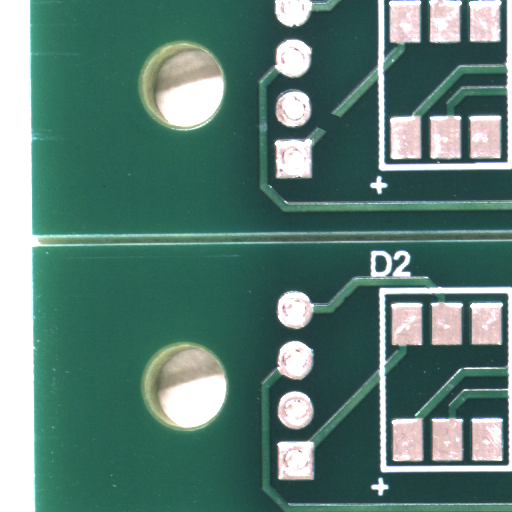Open_circuit: (329, 123, 354, 144)
